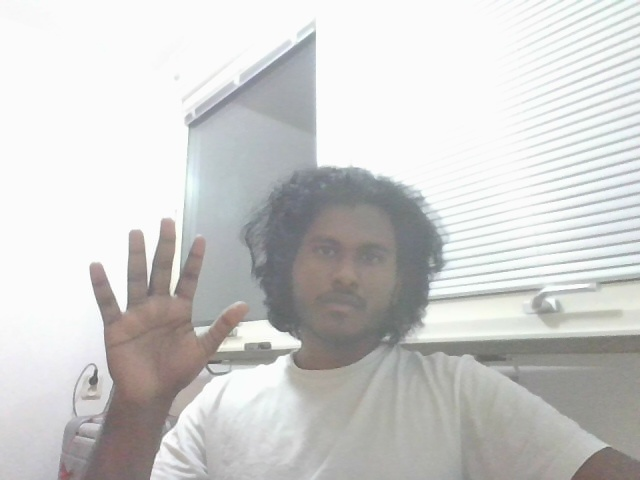hello: (74, 194, 253, 416)
